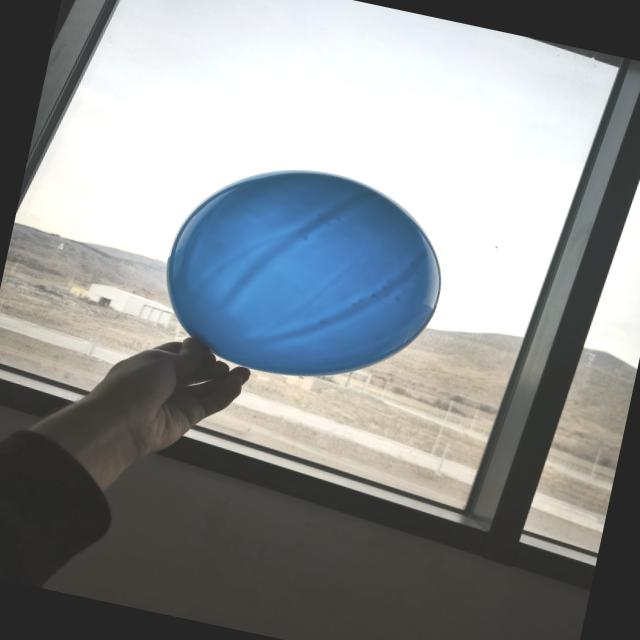balloon: (166, 170, 440, 375)
